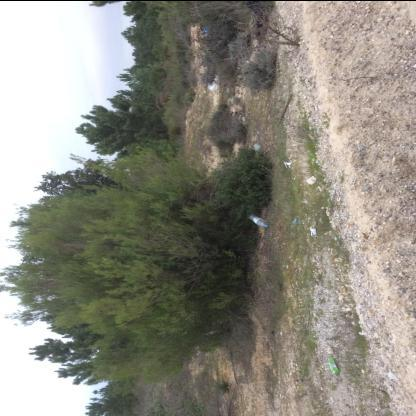karton: (329, 358, 340, 374)
plastik: (249, 214, 269, 228)
